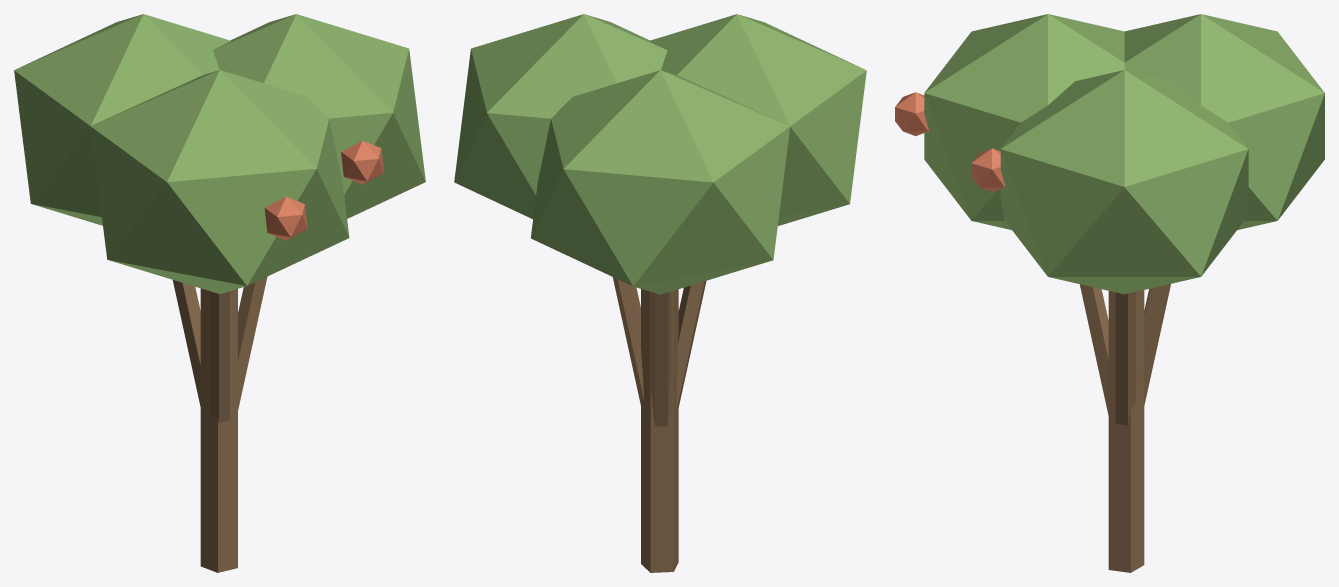
The model's file is plant_wild_apple_ripe.glb.
The picture shows the model from 3 angles, left to right: view 1: azimuth 30°, elevation 25°; view 2: azimuth 150°, elevation 25°; view 3: azimuth 270°, elevation 25°; orthographic projection.
Parts seen in each view (by area): view 1: plant_wild_apple_ripe; view 2: plant_wild_apple_ripe; view 3: plant_wild_apple_ripe.
Boxes of the visible parts, x1,y1,x2,y2 form: plant_wild_apple_ripe: (14, 14, 425, 572); plant_wild_apple_ripe: (454, 14, 866, 572); plant_wild_apple_ripe: (895, 14, 1324, 572).
Bounding box in the file's own units: 0.8903 × 1.33 × 0.9739.
